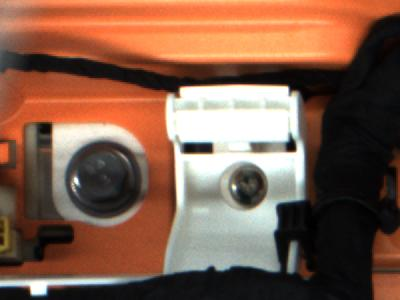nut_b: (64, 143, 149, 219)
